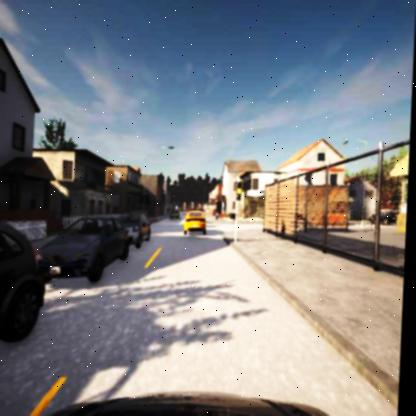vehicle: (0, 215, 52, 404), (32, 216, 134, 281), (121, 212, 152, 246), (185, 212, 210, 235)
